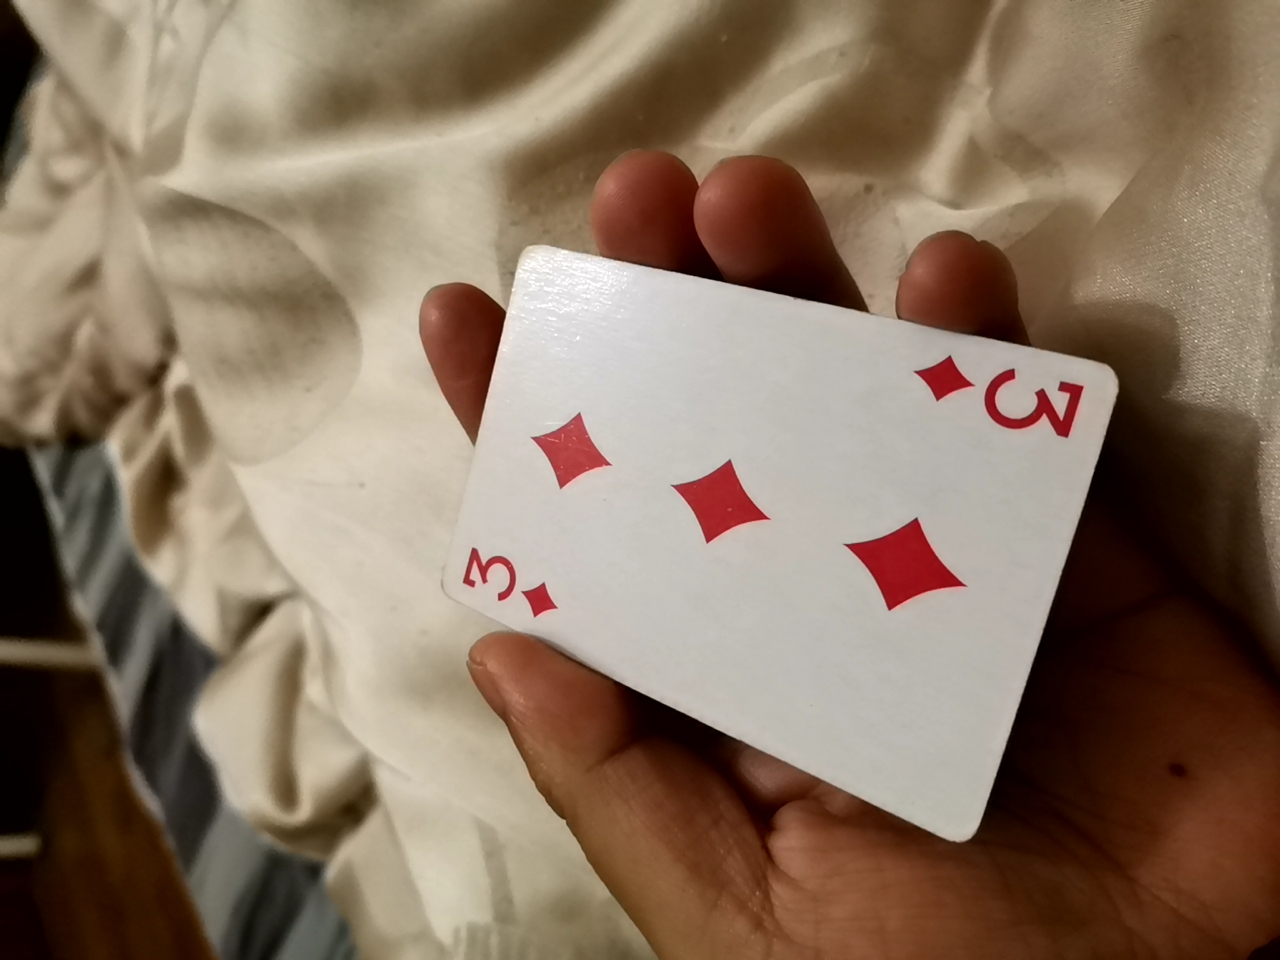fk 3: (399, 235, 1104, 844)
